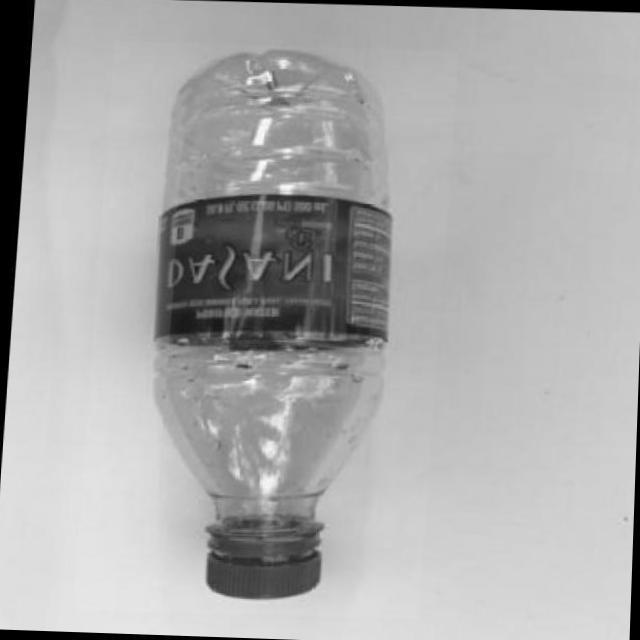good: (72, 36, 454, 619)
